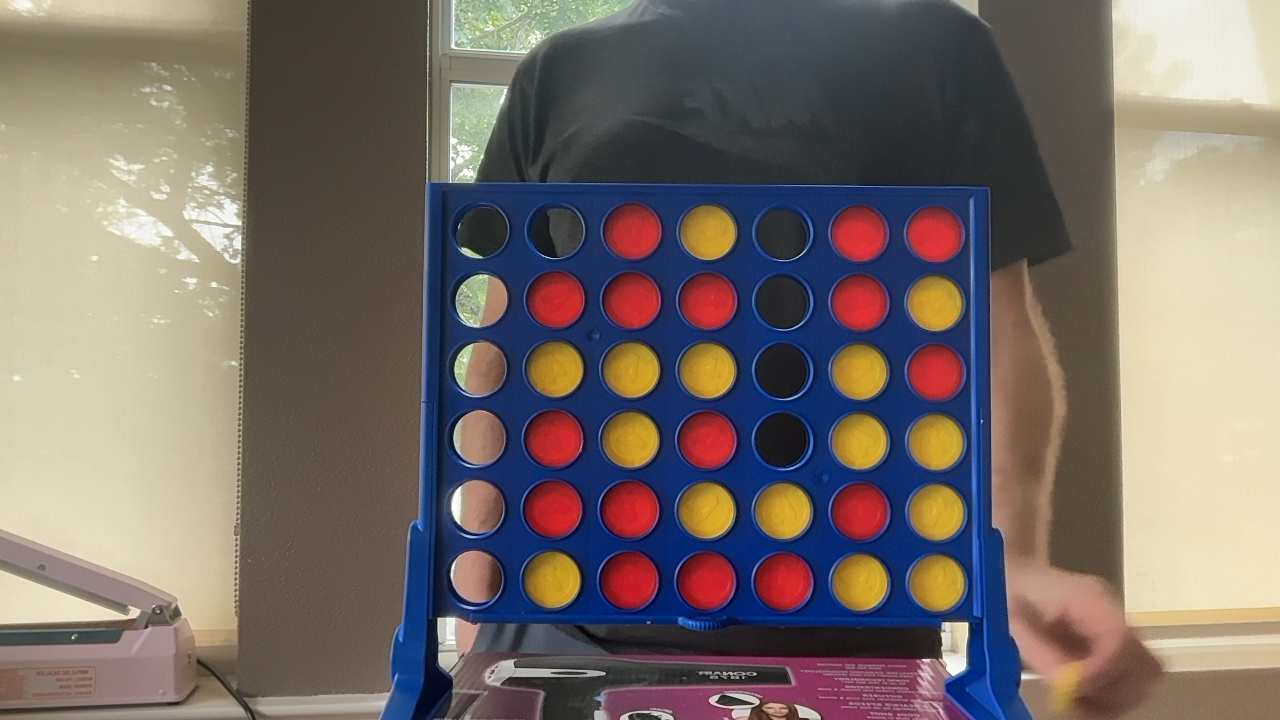red piece: (599, 551, 658, 610), (754, 552, 813, 611), (676, 552, 735, 611), (600, 480, 659, 539), (523, 480, 582, 538), (677, 411, 736, 469), (525, 410, 583, 468), (526, 271, 584, 328), (831, 483, 889, 540), (603, 272, 660, 329), (831, 274, 888, 331), (679, 273, 736, 330), (907, 344, 964, 400), (604, 203, 660, 259), (831, 206, 888, 261), (906, 206, 963, 261)
yellow piece: (523, 551, 581, 609), (601, 410, 659, 468), (677, 482, 735, 539), (678, 342, 736, 399), (602, 341, 660, 398), (755, 482, 812, 540), (908, 484, 965, 541), (831, 343, 888, 400), (831, 554, 888, 611), (526, 340, 583, 397), (831, 413, 888, 470), (908, 555, 965, 612), (908, 413, 965, 470), (907, 275, 964, 331), (680, 204, 736, 259)
